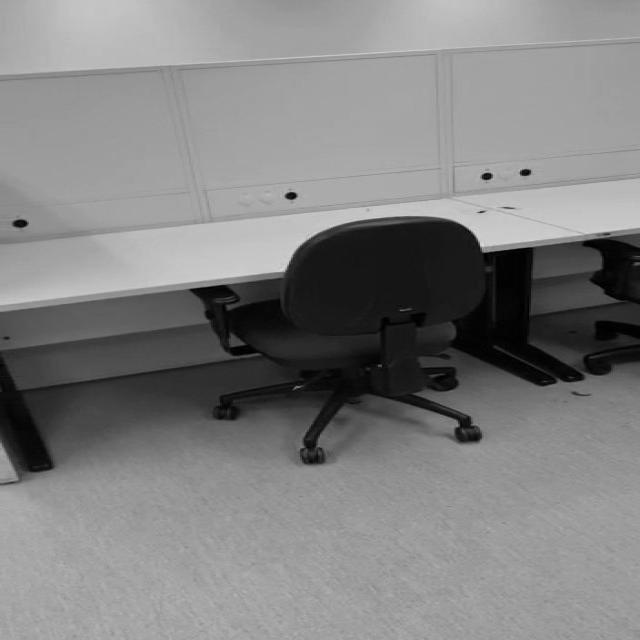cadeira-azul: (190, 215, 486, 462)
